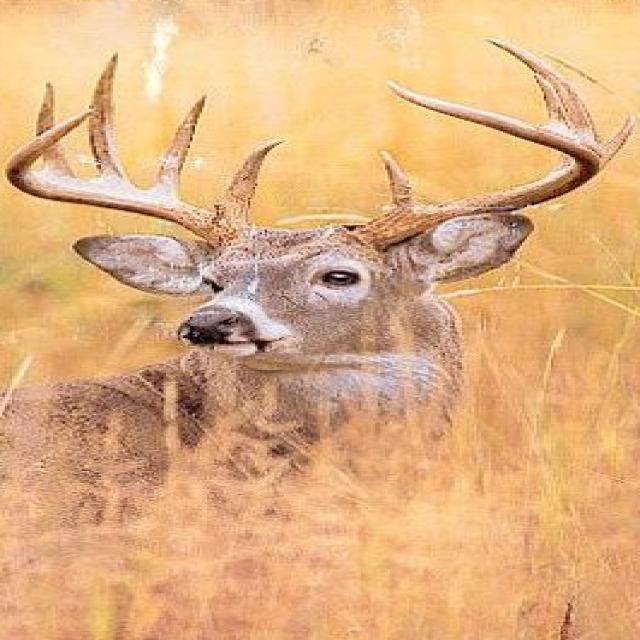L-F: (346, 78, 607, 252)
L-G1: (376, 148, 433, 213)
L-G2: (604, 112, 636, 157)
L-G3: (483, 36, 598, 146)
R-F: (3, 111, 252, 248)
R-G1: (214, 138, 288, 224)
R-G2: (146, 93, 208, 198)
R-G3: (88, 51, 141, 188)
